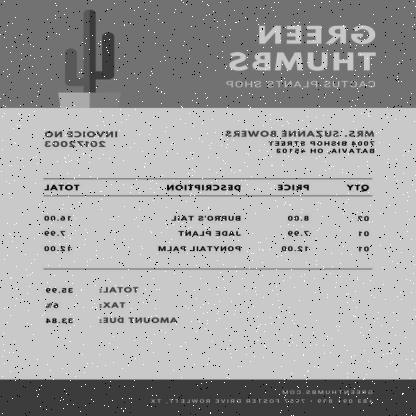Paragraph: (216, 18, 385, 93), (39, 279, 183, 327), (220, 124, 382, 160), (143, 386, 380, 410), (38, 126, 122, 152)
Table: (41, 179, 376, 268)
